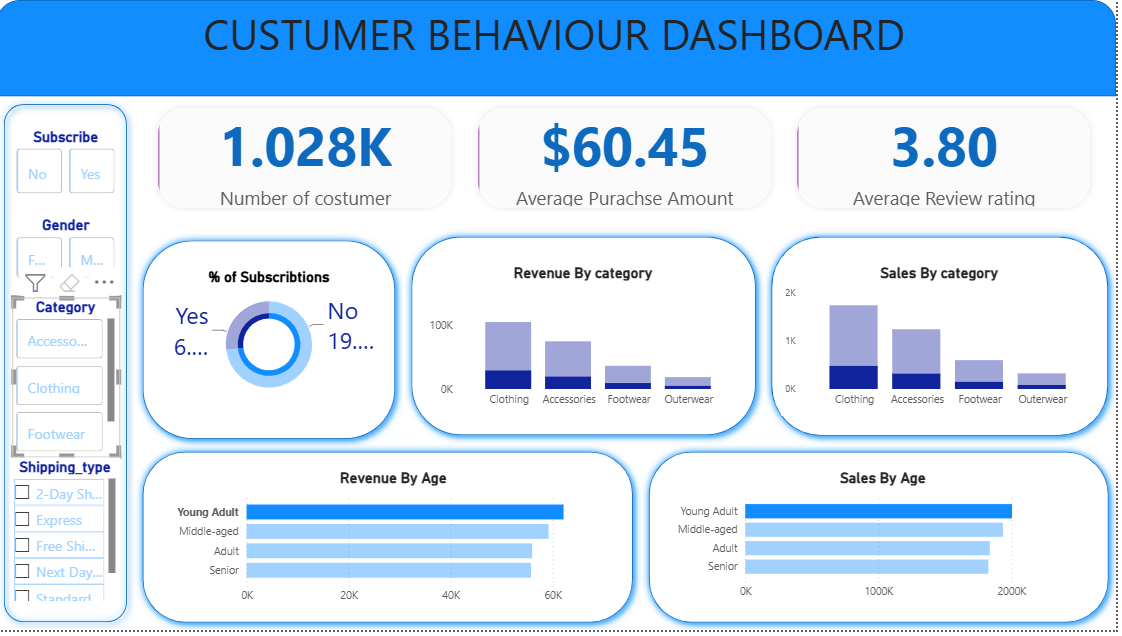

What the dashboard file says about the page in this screenshot:
{"tool":"powerbi","page":{"name":"Page 1","canvas":[1280,720],"ordinal":0},"visuals":[{"type":"cardVisual","fields":{"Data":["customer_behavior customer_shopping_behavior_cleaned.Number of costumer","customer_behavior customer_shopping_behavior_cleaned.Average Purachse Amount","customer_behavior customer_shopping_behavior_cleaned.Average Review rating"]},"box":[157.1,95.7,1122.9,170],"z":0},{"type":"shape","box":[0,0,1280,110],"z":1000},{"type":"textbox","box":[65,0,1065,110],"z":2000},{"type":"shape","box":[158.3,265,306.7,245],"z":3000},{"type":"donutChart","title":"% of Subscribtions","fields":{"Category":["customer_behavior customer_shopping_behavior_cleaned.subscription_status"],"Y":["CountNonNull(customer_behavior customer_shopping_behavior_cleaned.customer_id)"]},"box":[178.6,305.7,267.1,157.1],"z":4000},{"type":"shape","box":[465,261.7,411.7,245],"z":5000},{"type":"shape","box":[877.1,261.4,402.9,245.7],"z":6000},{"type":"clusteredColumnChart","title":"Revenue By category","fields":{"Y":["Sum(customer_behavior customer_shopping_behavior_cleaned.purchase_amount)"],"Category":["customer_behavior customer_shopping_behavior_cleaned.category"]},"box":[490,301.7,361.7,173.3],"z":7000},{"type":"clusteredColumnChart","title":"Sales By category","fields":{"Y":["CountNonNull(customer_behavior customer_shopping_behavior_cleaned.customer_id)"],"Category":["customer_behavior customer_shopping_behavior_cleaned.category"]},"box":[896.7,301.7,361.7,173.3],"z":8000},{"type":"shape","box":[0,110,158.6,610],"z":9000},{"type":"advancedSlicerVisual","title":"Subscribe","fields":{"Values":["customer_behavior customer_shopping_behavior_cleaned.subscription_status"]},"box":[19.2,146.2,122.3,80.8],"z":10000},{"type":"advancedSlicerVisual","title":"Gender","fields":{"Values":["customer_behavior customer_shopping_behavior_cleaned.gender"]},"box":[18.6,247.1,122.9,75.7],"z":11000},{"type":"advancedSlicerVisual","title":"Category","fields":{"Values":["customer_behavior customer_shopping_behavior_cleaned.category"]},"box":[18.9,340,122.2,182.2],"z":12000},{"type":"listSlicer","title":"Shipping_type","fields":{"Values":["customer_behavior customer_shopping_behavior_cleaned.shipping_type"]},"box":[15,522.5,126.2,170],"z":13000},{"type":"shape","box":[158.3,506.7,578.3,213.3],"z":14000},{"type":"shape","box":[736.7,506.7,543.3,213.3],"z":15000},{"type":"clusteredBarChart","title":"Revenue By Age","fields":{"Y":["Sum(customer_behavior customer_shopping_behavior_cleaned.purchase_amount)"],"Category":["customer_behavior customer_shopping_behavior_cleaned.age_group"]},"box":[198.9,535.6,511.1,163.3],"z":16000},{"type":"clusteredBarChart","title":"Sales By Age","fields":{"Y":["Sum(customer_behavior customer_shopping_behavior_cleaned.customer_id)"],"Category":["customer_behavior customer_shopping_behavior_cleaned.age_group"]},"box":[768.3,535,490,158.3],"z":17000}]}

Visuals, with their boxes in screenshot pixels (x1, y1, x2, y2), scaled from the page's 1280x720 canvas onto the 1122x636 screenshot:
cardVisual - customer_behavior customer_shopping_behavior_cleaned.Number of costumer x customer_behavior customer_shopping_behavior_cleaned.Average Purachse Amount: select_region(138, 85, 1121, 235)
shape: select_region(0, 0, 1121, 97)
textbox: select_region(57, 0, 991, 97)
shape: select_region(139, 234, 408, 450)
"% of Subscribtions" donutChart: select_region(157, 270, 391, 409)
shape: select_region(408, 231, 768, 448)
shape: select_region(769, 231, 1121, 448)
"Revenue By category" clusteredColumnChart: select_region(430, 267, 747, 420)
"Sales By category" clusteredColumnChart: select_region(786, 267, 1103, 420)
shape: select_region(0, 97, 139, 635)
"Subscribe" advancedSlicerVisual: select_region(17, 129, 124, 201)
"Gender" advancedSlicerVisual: select_region(16, 218, 124, 285)
"Category" advancedSlicerVisual: select_region(17, 300, 124, 461)
"Shipping_type" listSlicer: select_region(13, 462, 124, 612)
shape: select_region(139, 448, 646, 635)
shape: select_region(646, 448, 1121, 635)
"Revenue By Age" clusteredBarChart: select_region(174, 473, 622, 617)
"Sales By Age" clusteredBarChart: select_region(673, 473, 1103, 612)
